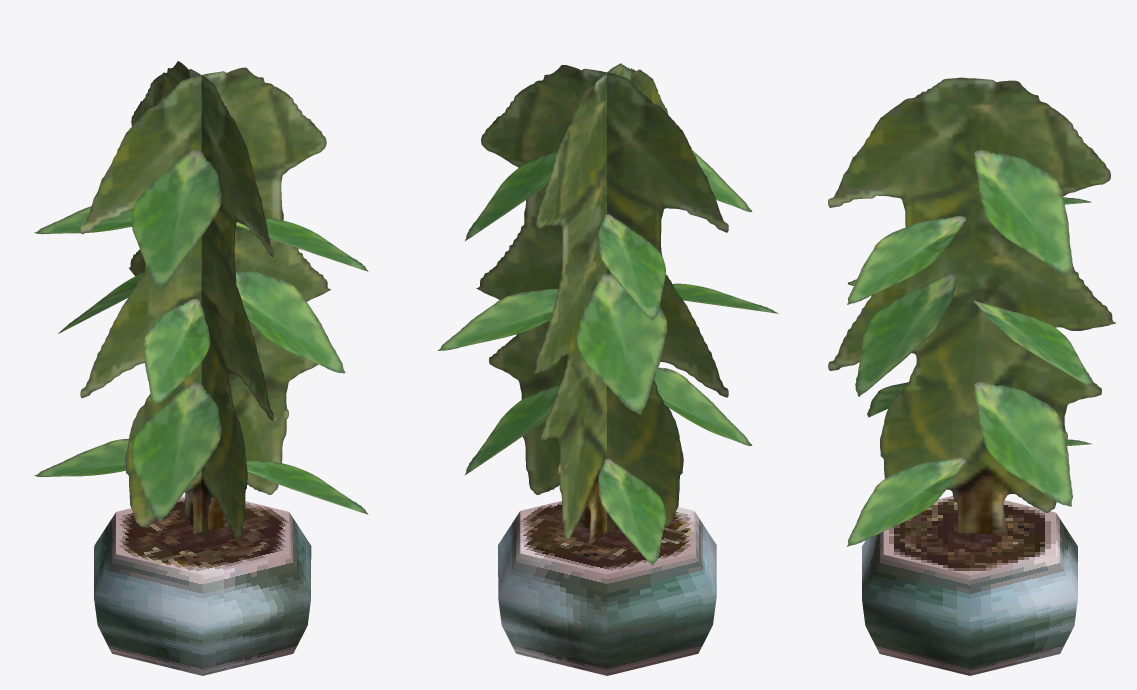
File: Plant1.glb
3 views of the same model, side by side, from view 1: azimuth 30°, elevation 25°; view 2: azimuth 150°, elevation 25°; view 3: azimuth 270°, elevation 25° (orthographic).
Visible parts, largest first — view 1: PLANT1; view 2: PLANT1; view 3: PLANT1.
Part boxes in pixels (x1,y1,x2,y2): PLANT1: (34, 61, 368, 675); PLANT1: (437, 63, 778, 675); PLANT1: (828, 77, 1115, 675).
Bounding box in the file's own units: 1.22 × 2.54 × 1.21.
2 materials, 2 textured.
